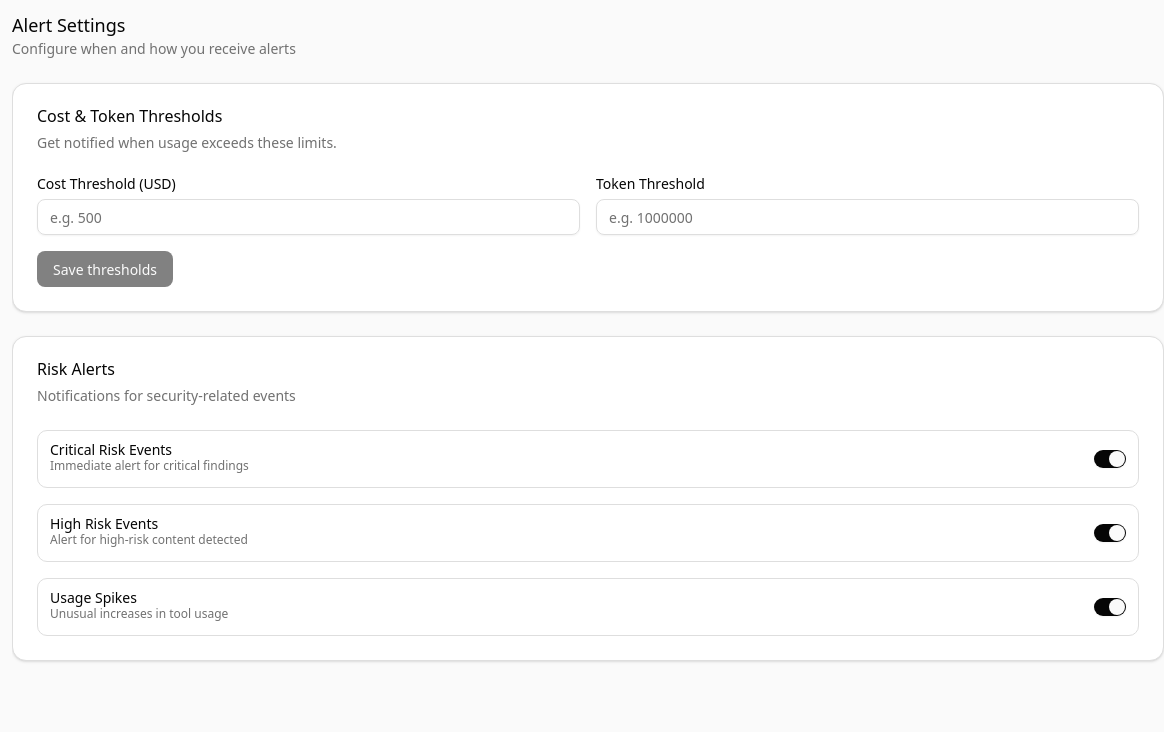
AlertSettings › Cost & Token Thresholds › save button is enabled after changing cost input
Type "10" into the number field labelled "Cost Threshold (USD)" at point(308, 217), box [37,199,580,235]
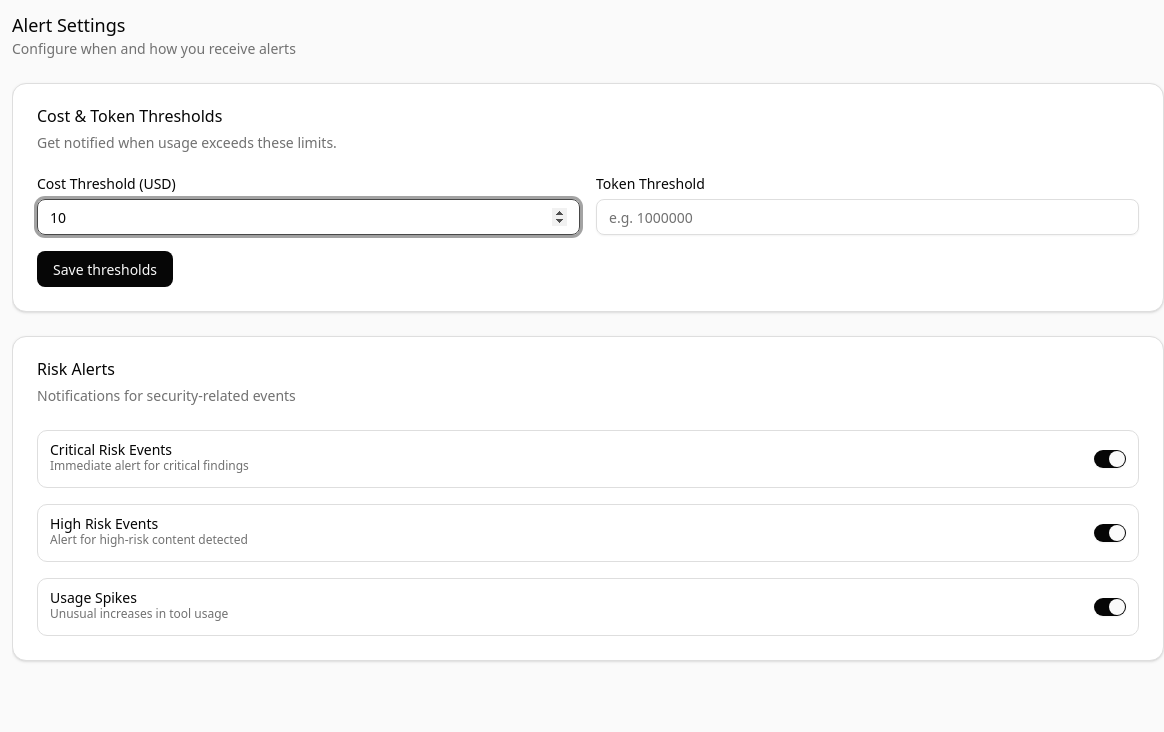
Result: the button "Save thresholds" is enabled at [37,251,173,287]
